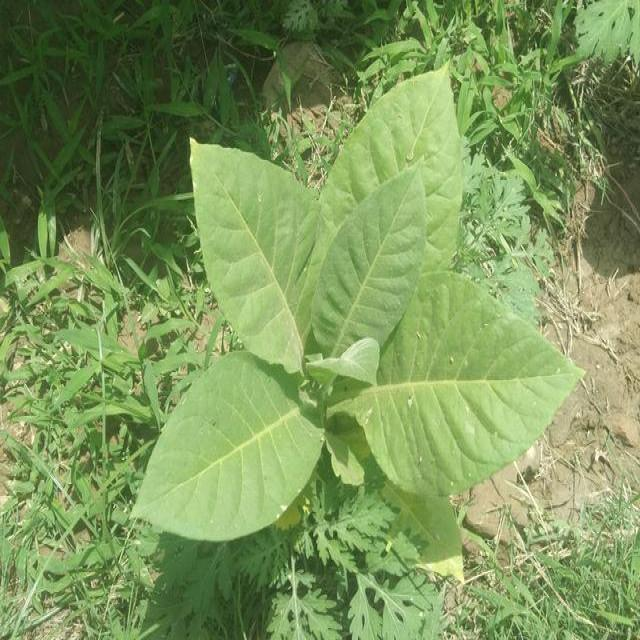crop: (139, 59, 592, 548)
